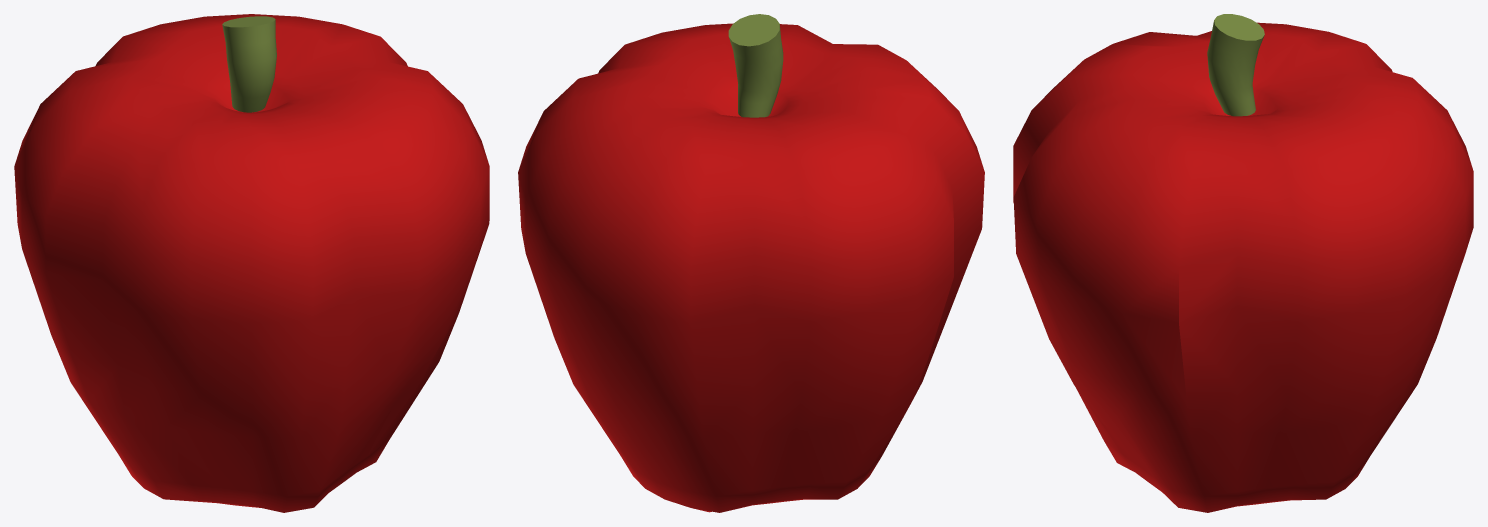
Rendered from Manzana_05.fbx.
3 views of the same model, side by side, from view 1: azimuth 30°, elevation 25°; view 2: azimuth 150°, elevation 25°; view 3: azimuth 270°, elevation 25° (orthographic).
Visible parts, largest first — view 1: Manzana_05; view 2: Manzana_05; view 3: Manzana_05.
Boxes of the visible parts, left/top/right/bottom form: Manzana_05: left=14, top=14, right=489, bottom=512; Manzana_05: left=518, top=14, right=984, bottom=512; Manzana_05: left=1013, top=14, right=1473, bottom=512.
Bounding box in the file's own units: 23.62 × 25.97 × 23.62.
